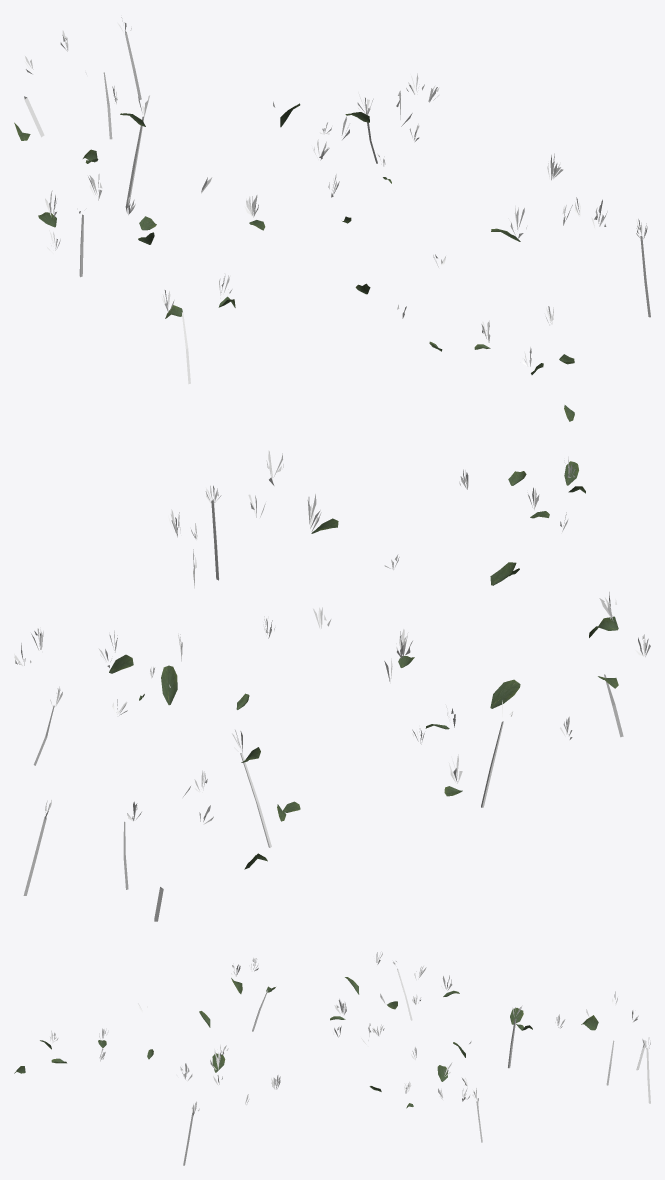
Rendered from clovers_03_lod1.gltf.
3 renders of one model, top to bottom at view 1: azimuth 30°, elevation 25°; view 2: azimuth 150°, elevation 25°; view 3: azimuth 270°, elevation 25°, orthographic. The views are drawn at different scales.
Visible parts, largest first — view 1: Clovers 03; view 2: Clovers 03; view 3: Clovers 03.
Boxes of the visible parts, x1,y1,x2,y2 form: Clovers 03: (14, 17, 650, 421); Clovers 03: (14, 450, 650, 921); Clovers 03: (14, 952, 650, 1165).
Bounding box in the file's own units: 0.431 × 0.1408 × 0.7516.
Materials: 3 (1 with a texture image).
